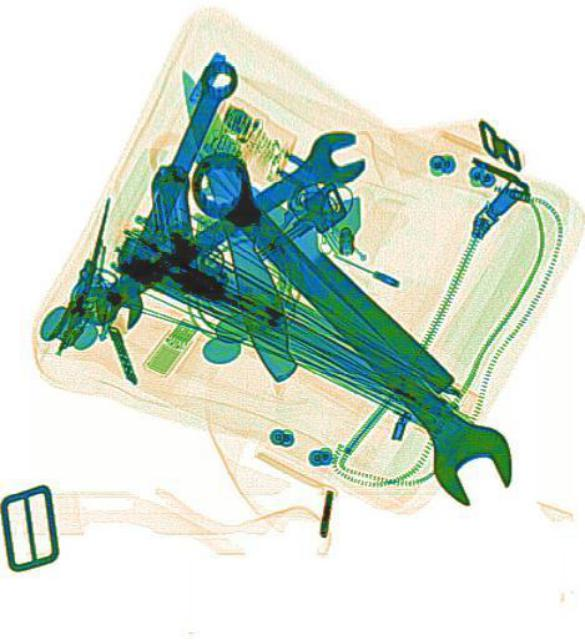Gun: (110, 156, 317, 336)
Knife: (192, 131, 461, 397), (168, 59, 307, 385)
Wrench: (170, 130, 533, 522), (61, 117, 370, 335), (92, 49, 242, 334)
